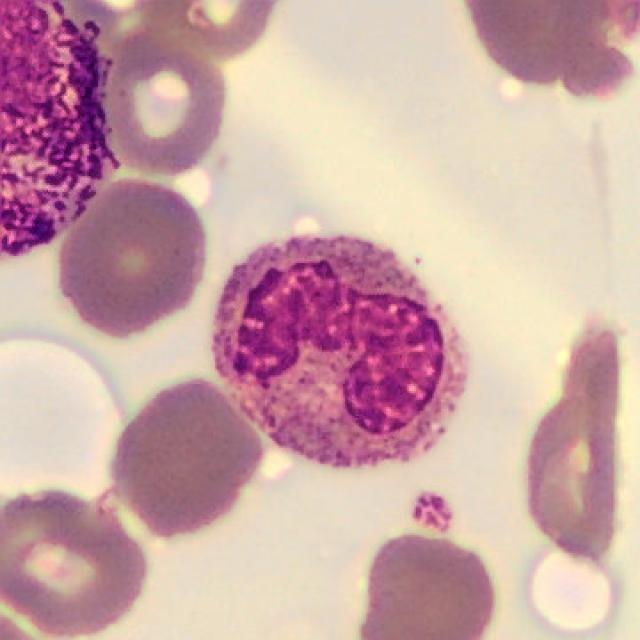Bastonete: (212, 233, 468, 471)
